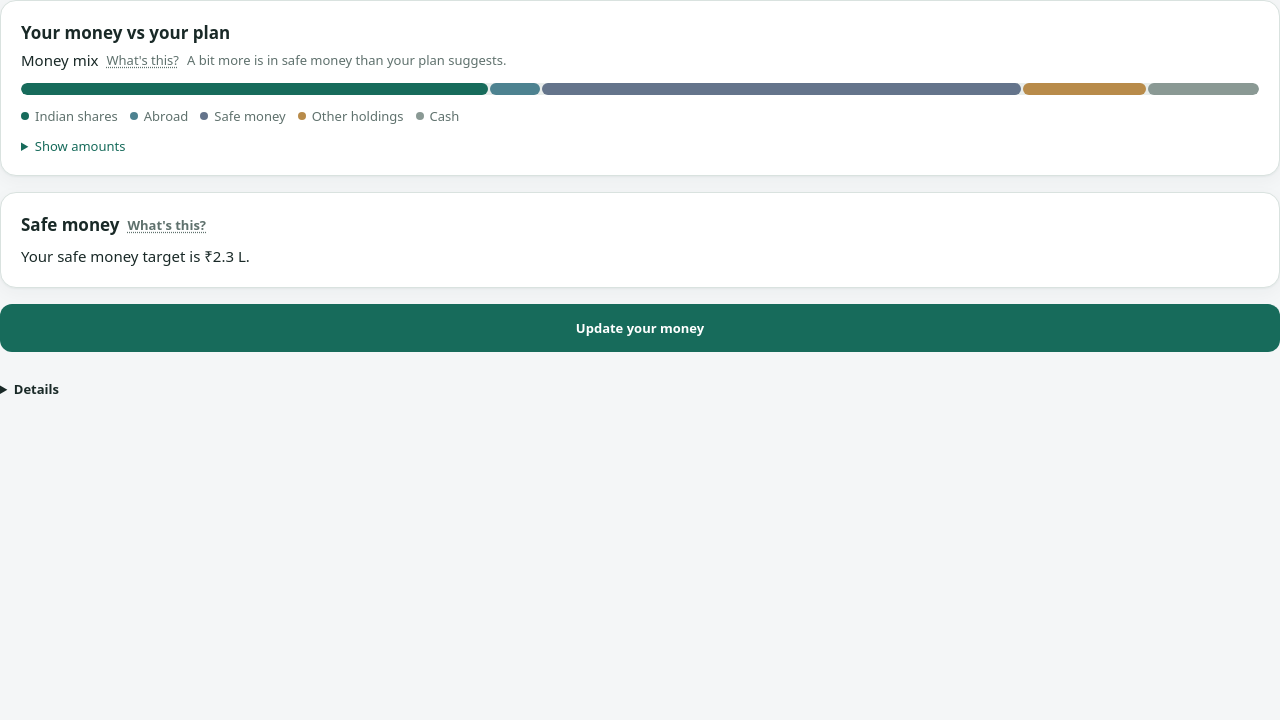
Test: Plan page › shows eligible debt options when their yields are unavailable
The image size is (1280, 720).
Click the heading "Details": (36, 389) x1=14 y1=380 x2=59 y2=398
(page scrolled)
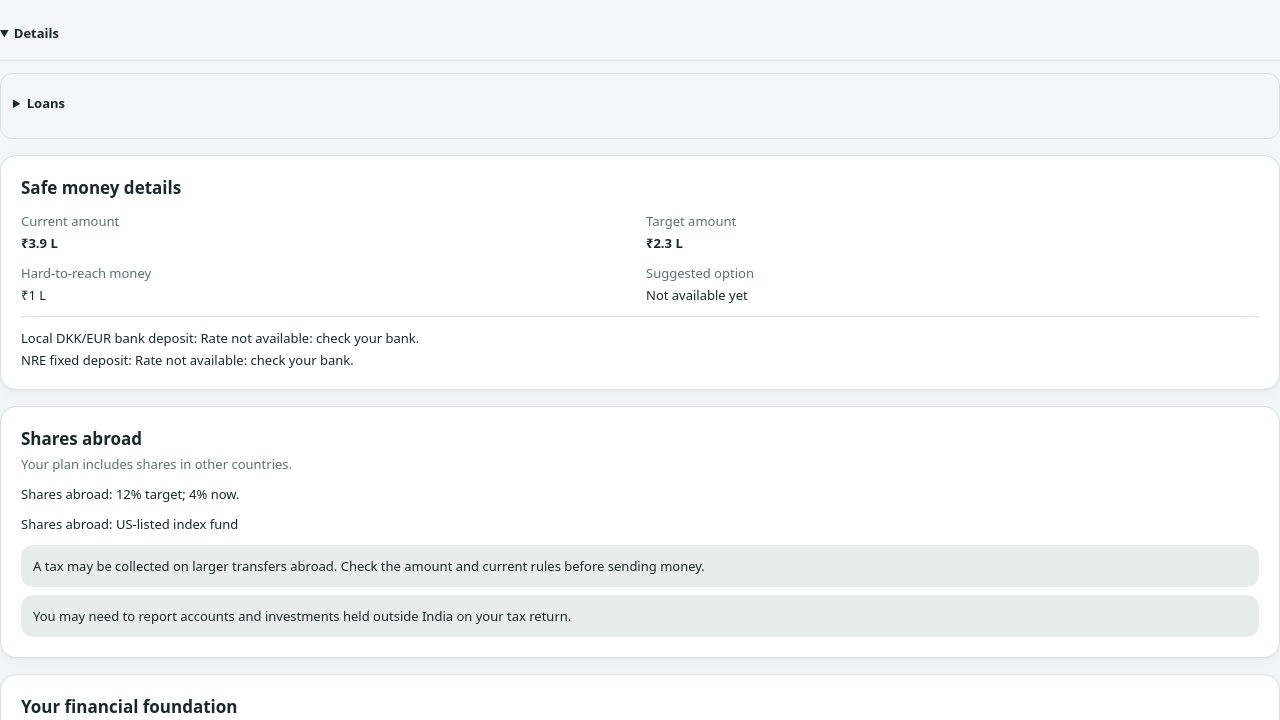
Result: the list item "Local DKK/EUR bank deposit: Rate not available: check your bank." is shown at x1=21 y1=329 x2=419 y2=347
Result: the list item "NRE fixed deposit: Rate not available: check your bank." is shown at x1=21 y1=351 x2=354 y2=369
